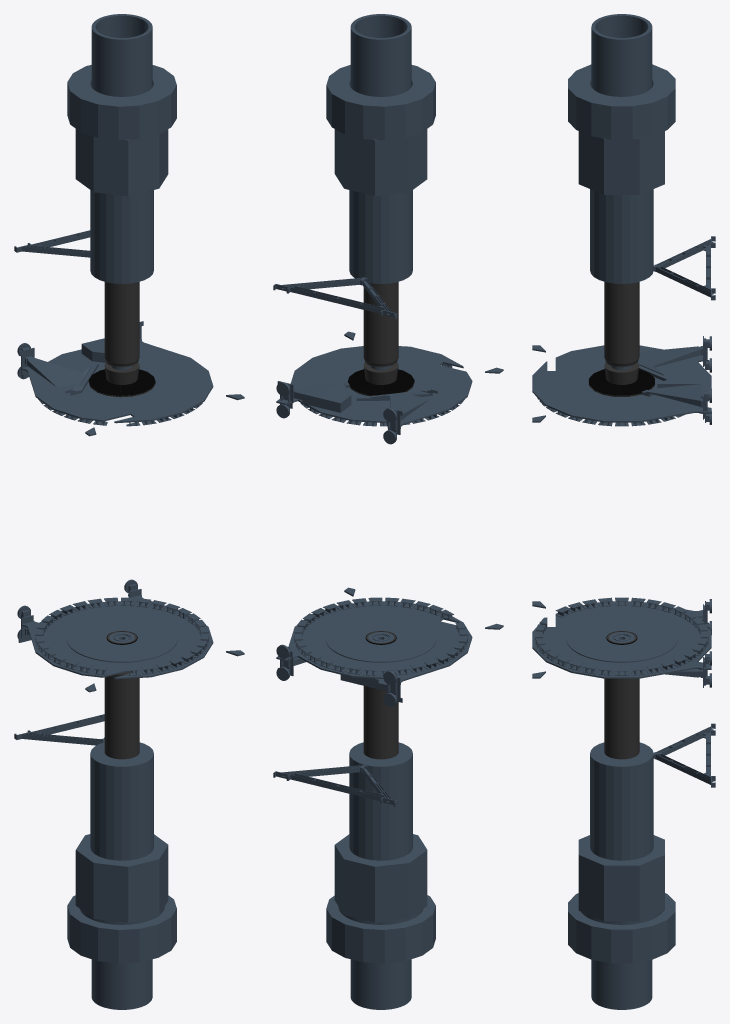
Rendered from BLrmuonmiscshield.FBX.
3 views of the same model, side by side, from view 1: azimuth 30°, elevation 25°; view 2: azimuth 150°, elevation 25°; view 3: azimuth 270°, elevation 25° (orthographic).
Visible parts, largest first — view 1: BLrmuonmiscshield; view 2: BLrmuonmiscshield; view 3: BLrmuonmiscshield.
Part boxes in pixels (x1,y1,x2,y2): BLrmuonmiscshield: (14,14,244,1009); BLrmuonmiscshield: (273,14,503,1009); BLrmuonmiscshield: (532,14,715,1009).
Size of the model in its own units: 8720 by 8925 by 52090.
